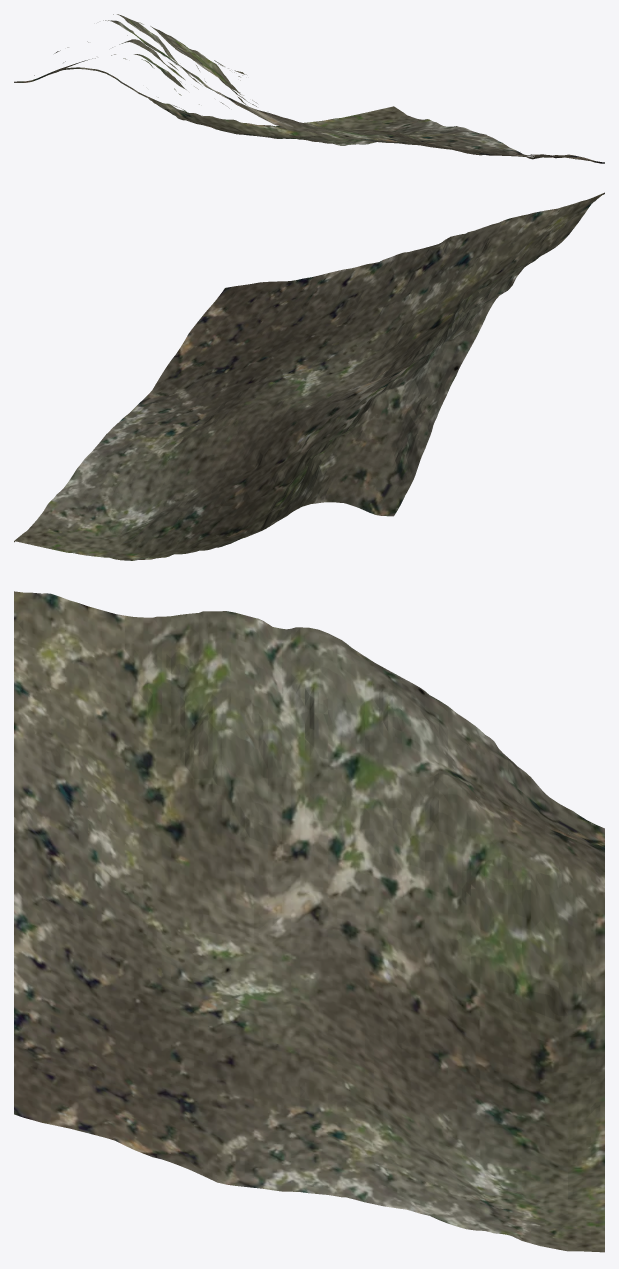
3 renders of one model, top to bottom at view 1: azimuth 30°, elevation 25°; view 2: azimuth 150°, elevation 25°; view 3: azimuth 270°, elevation 25°, orthographic. The views are drawn at different scales.
Size of the model in its own units: 250 by 181 by 241.
1 material, 1 textured.
